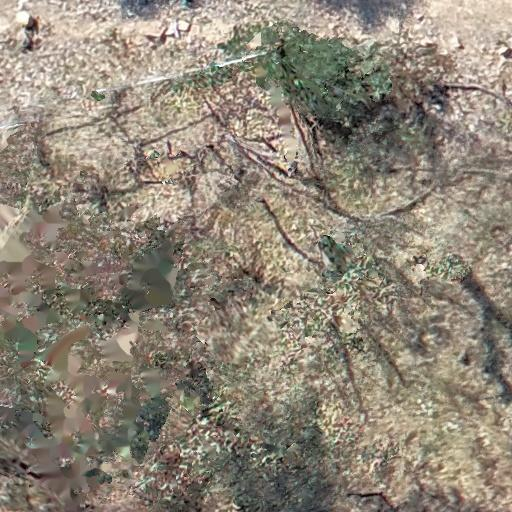stone: (165, 18, 193, 39), (14, 28, 34, 49), (383, 15, 404, 33), (449, 34, 468, 52), (15, 13, 36, 27), (492, 44, 510, 60)
